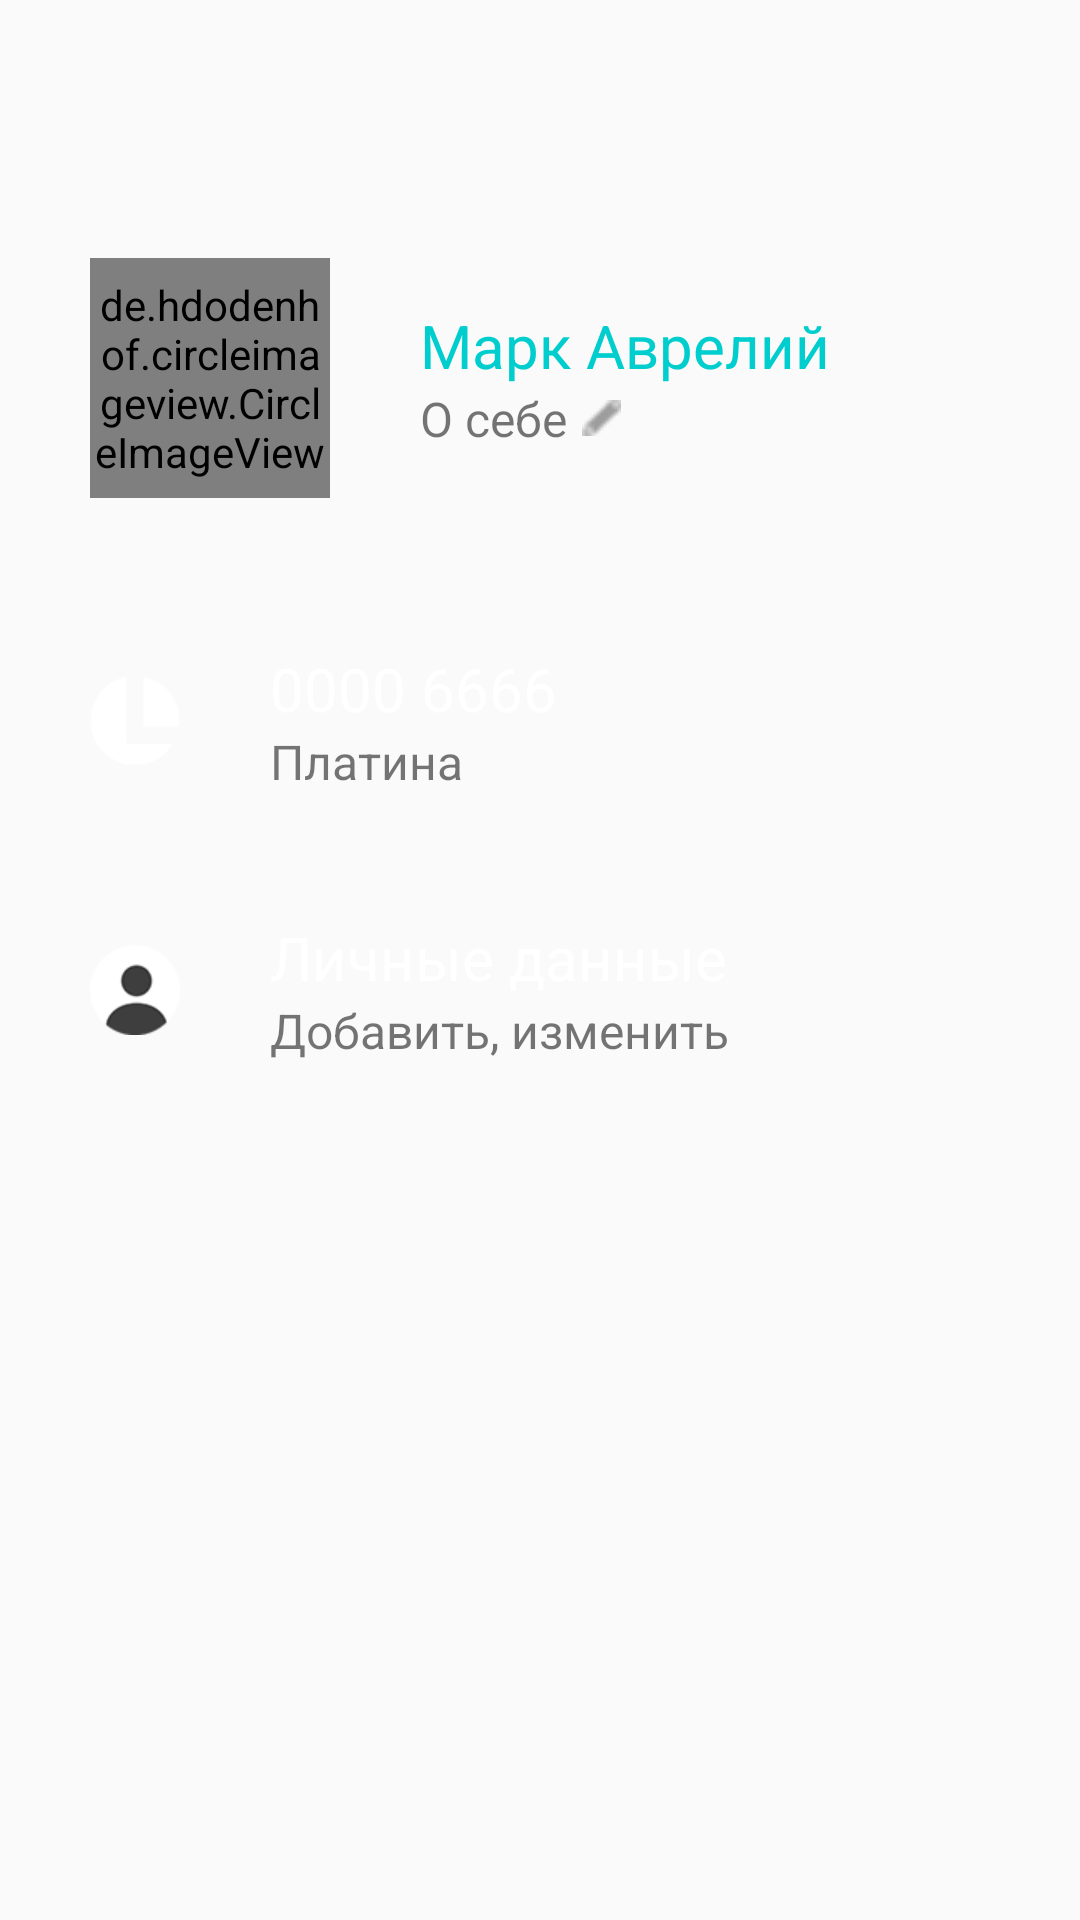

Locate icon controls on the screen. Image size 1080×1920, boxes as bbox=[x1, y1, x2, y2].
person: bbox=[106, 964, 167, 1035]
